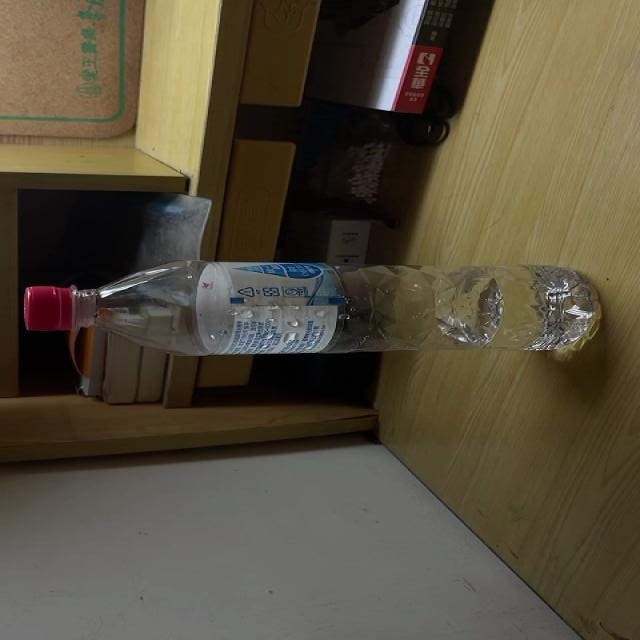Water: (20, 262, 608, 356)
